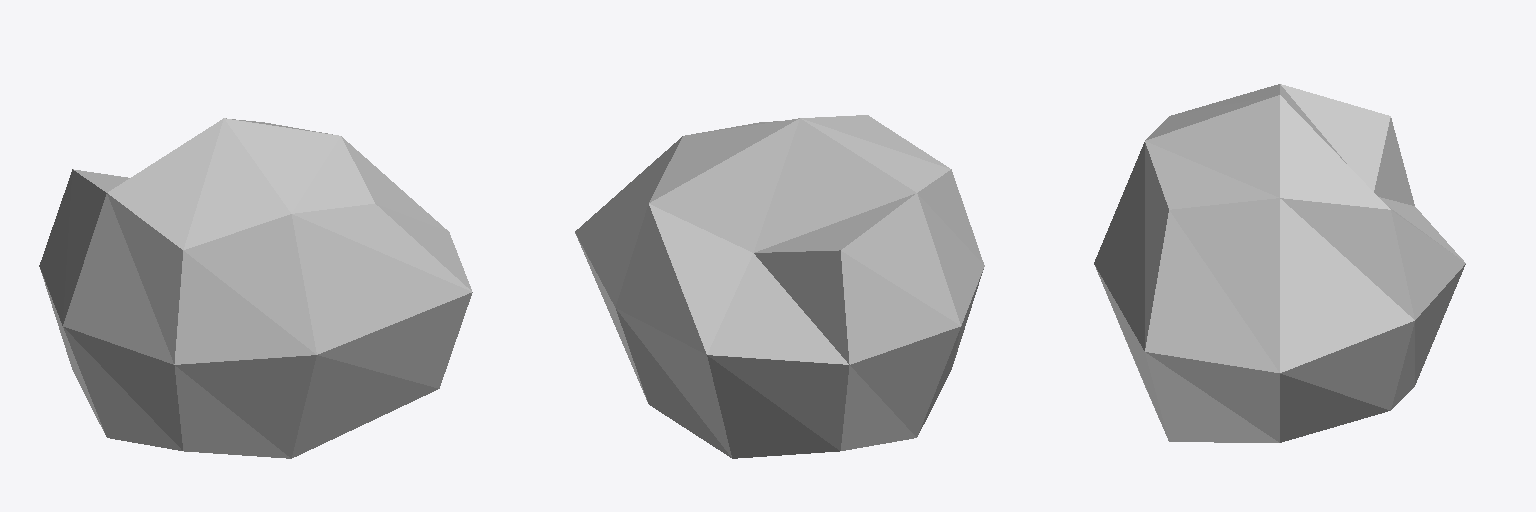
Rendered from stone.obj.
The picture shows the model from 3 angles: view 1: azimuth 30°, elevation 25°; view 2: azimuth 150°, elevation 25°; view 3: azimuth 270°, elevation 25°; orthographic projection.
Visible parts, largest first — view 1: Cube.003_Cube.029; view 2: Cube.003_Cube.029; view 3: Cube.003_Cube.029.
Part boxes in pixels (x1,y1,x2,y2): Cube.003_Cube.029: (39, 118, 472, 458); Cube.003_Cube.029: (575, 115, 984, 458); Cube.003_Cube.029: (1094, 84, 1465, 442).
Bounding box in the file's own units: 0.2196 × 0.158 × 0.1831.